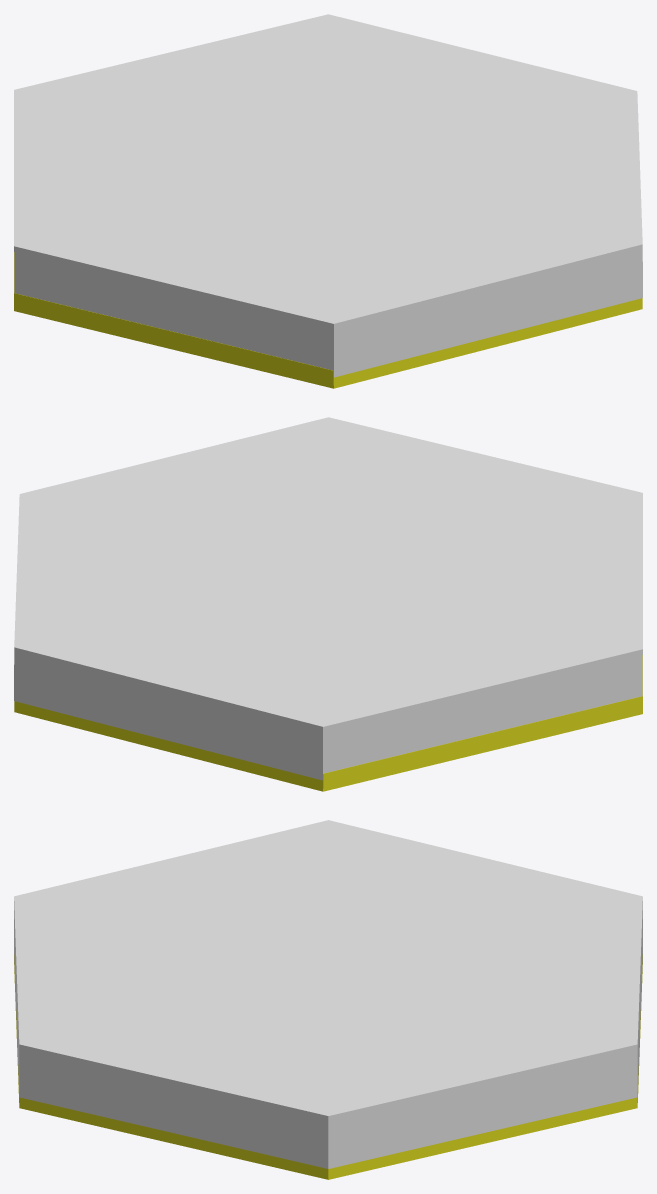
Rendered from Tatles1.fbx_Titel_Voda_0.fbx.
3 views of the same model, one above another, from view 1: azimuth 30°, elevation 25°; view 2: azimuth 150°, elevation 25°; view 3: azimuth 270°, elevation 25° (orthographic).
Visible parts, largest first — view 1: Voda.006, Dno.006; view 2: Voda.006, Dno.006; view 3: Voda.006, Dno.006.
Boxes of the visible parts, x1=… form: Voda.006: x1=14, y1=14, x2=642, y2=377; Dno.006: x1=14, y1=252, x2=642, y2=388; Voda.006: x1=14, y1=417, x2=642, y2=780; Dno.006: x1=14, y1=655, x2=642, y2=791; Voda.006: x1=14, y1=820, x2=642, y2=1168; Dno.006: x1=14, y1=954, x2=642, y2=1179.
Bounding box in the file's own units: 18.22 × 1.9 × 16.18.
